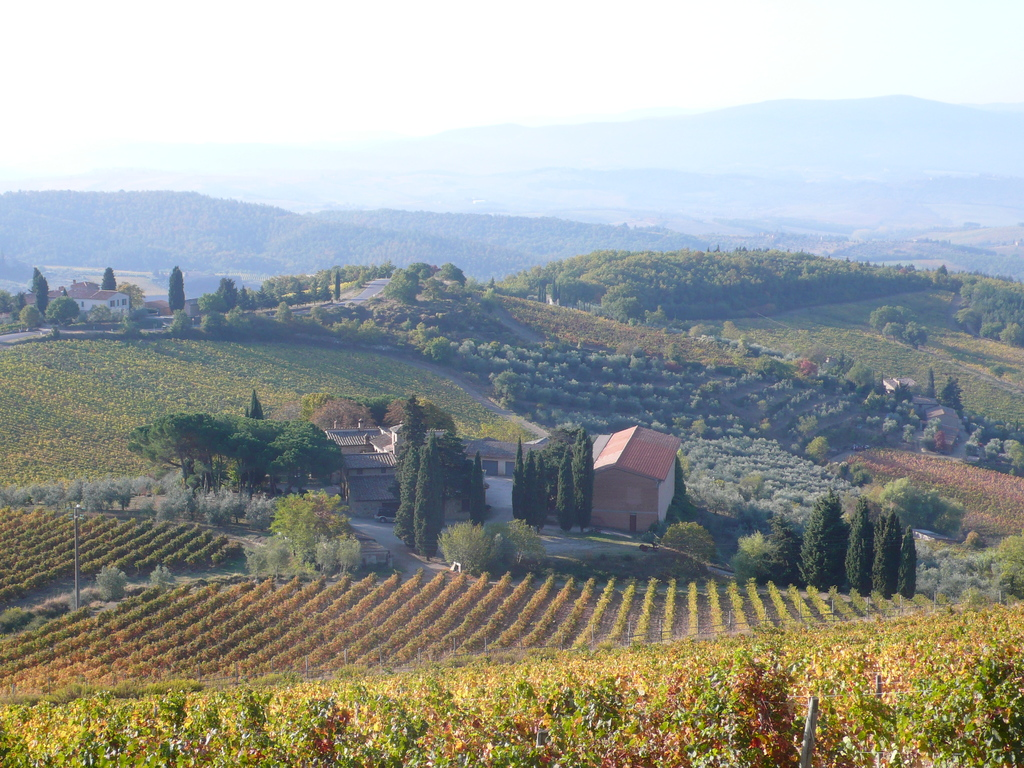Tree: (0, 189, 1024, 600)
